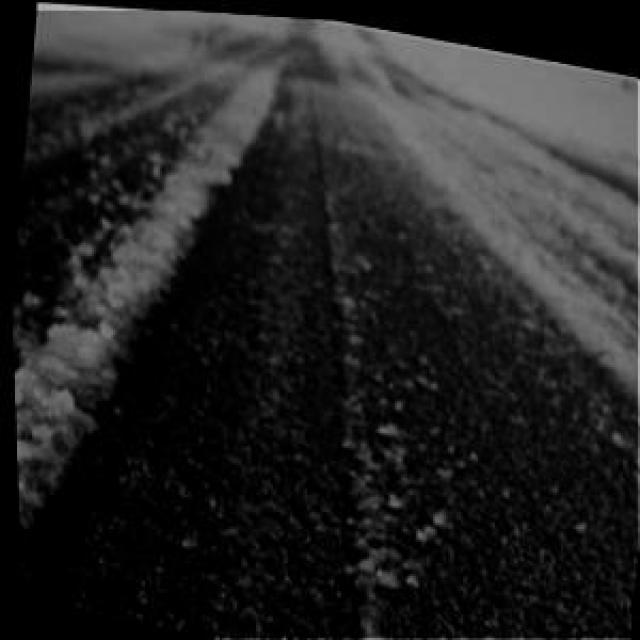ice-road: (9, 12, 640, 638)
